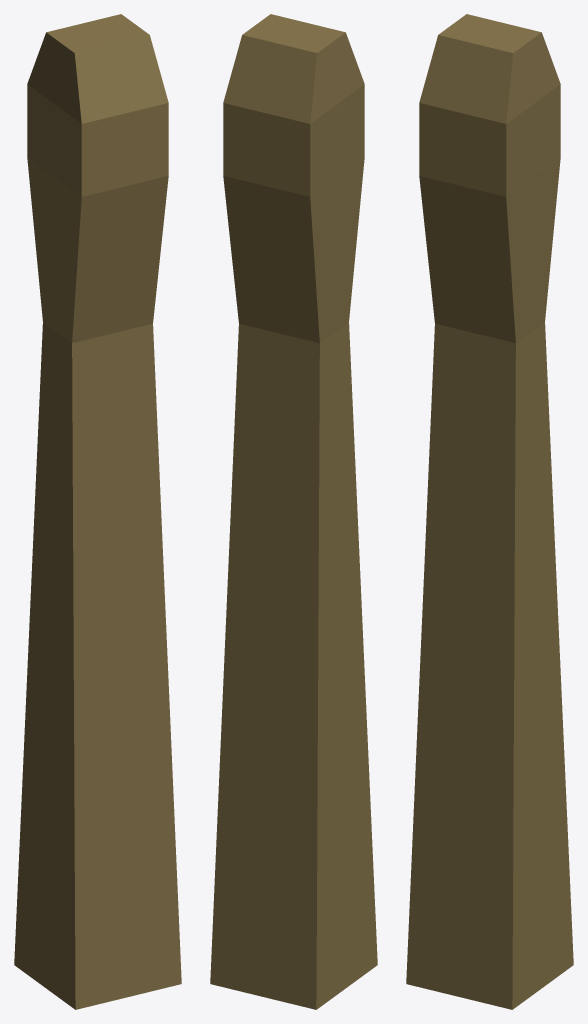
File: lever_handle.fbx
3 renders of one model, left to right at view 1: azimuth 30°, elevation 25°; view 2: azimuth 150°, elevation 25°; view 3: azimuth 330°, elevation 25°, orthographic.
Parts seen in each view (by area): view 1: Handle; view 2: Handle; view 3: Handle.
Boxes of the visible parts, x1,y1,x2,y2 form: Handle: (14,14,181,1009); Handle: (210,14,377,1009); Handle: (406,14,573,1009).
Size of the model in its own units: 23.63 by 200 by 23.63.
